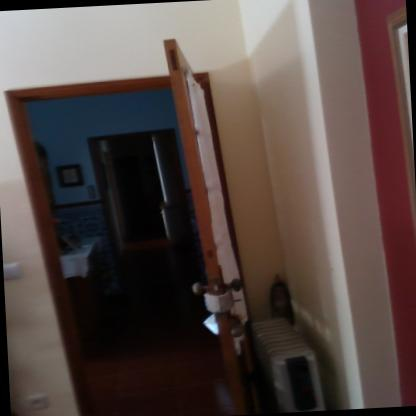open: (0, 28, 257, 416)
